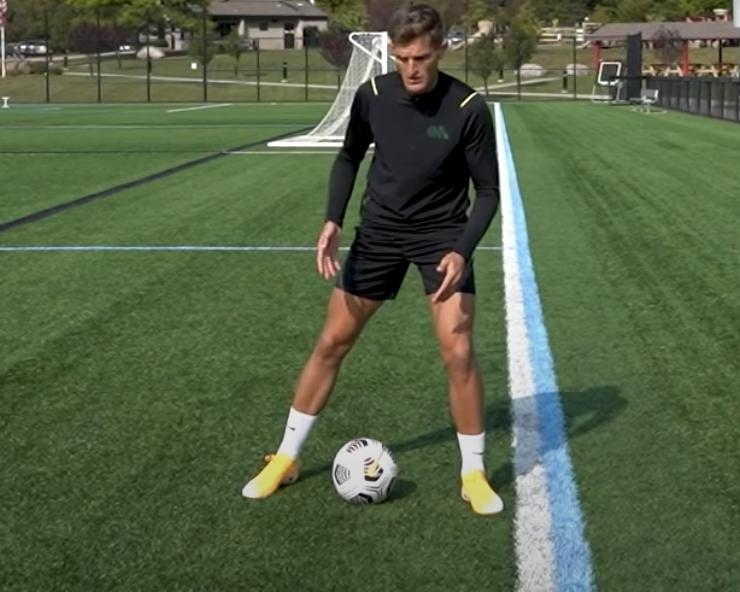ball: (330, 438, 400, 505)
foot: (239, 453, 301, 501), (457, 466, 503, 515)
person: (243, 5, 505, 517)
